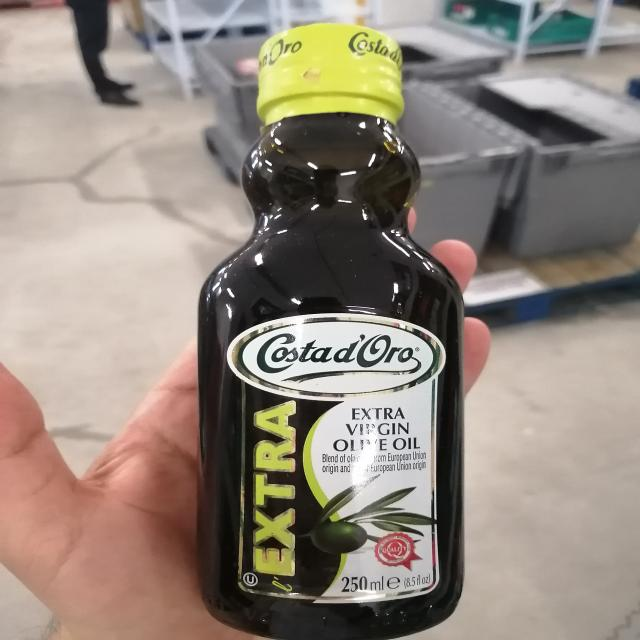object_name: (214, 37, 452, 625)
